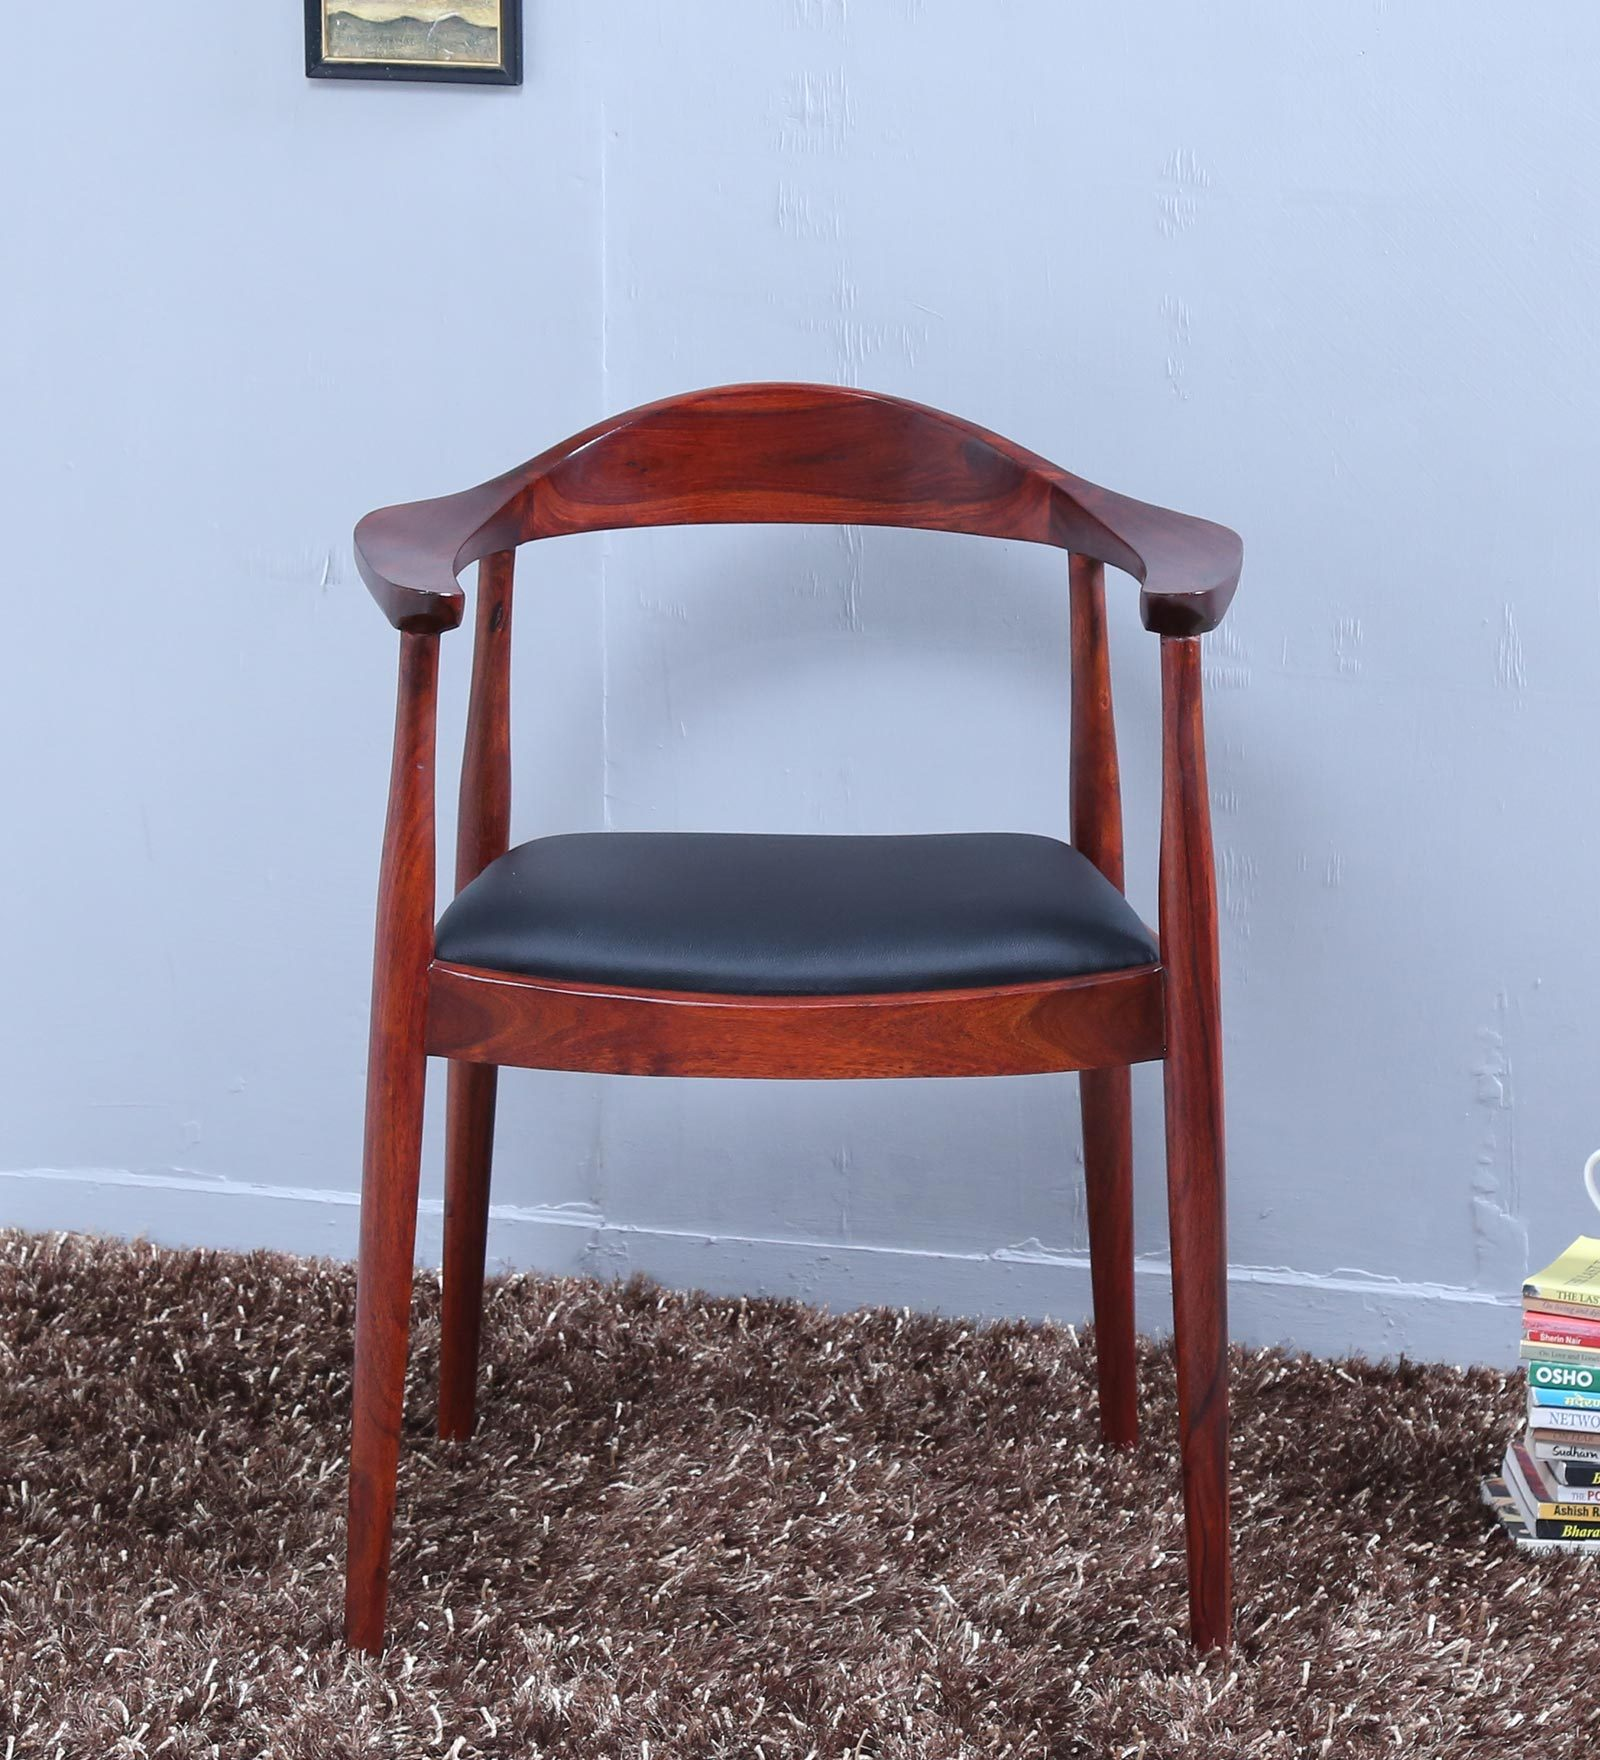Esvelt Arm Chair in Honey Oak Finish by Woodsworth: (251, 356, 1283, 1696)
